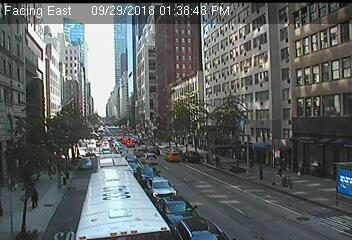car: (78, 173, 171, 240), (156, 196, 201, 232), (174, 217, 231, 240), (96, 154, 133, 182), (145, 177, 176, 200), (135, 165, 159, 183), (181, 151, 199, 163), (129, 163, 142, 176), (164, 152, 180, 162), (142, 153, 155, 165), (80, 158, 93, 169), (124, 155, 138, 164), (86, 139, 95, 151)
